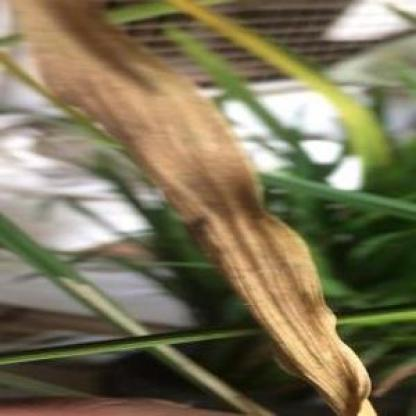Blight: (11, 1, 380, 416)
